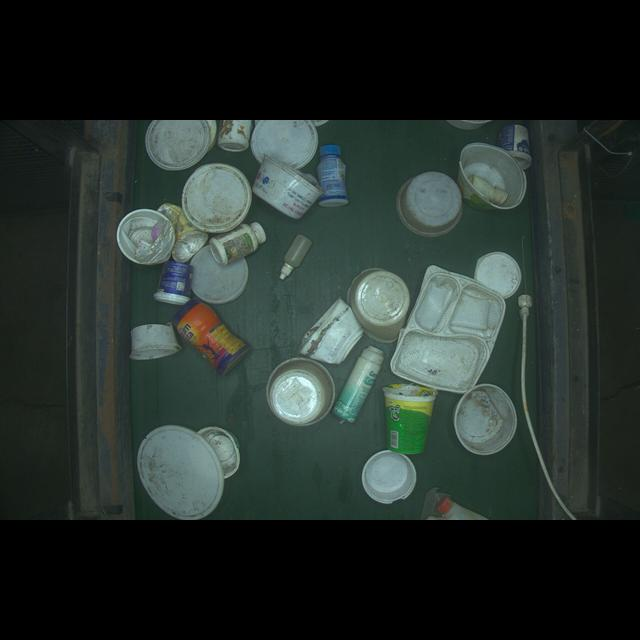mix PP: (401, 252, 501, 395), (139, 407, 256, 525), (166, 291, 253, 375), (178, 162, 257, 238), (261, 353, 342, 424), (356, 265, 409, 337), (313, 142, 367, 206)
